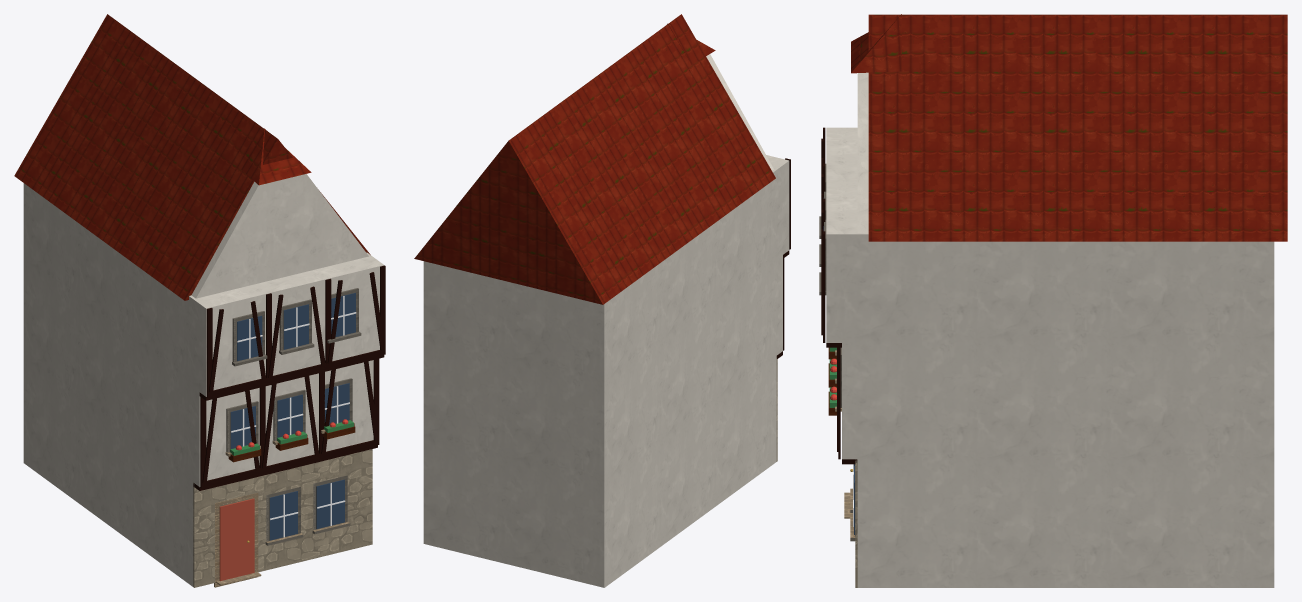
File: fachwerk_w6_1.gltf
The picture shows the model from 3 angles, left to right: view 1: azimuth 30°, elevation 25°; view 2: azimuth 150°, elevation 25°; view 3: azimuth 270°, elevation 25°; orthographic projection. The views are drawn at different scales.
Parts seen in each view (by area): view 1: fachwerk_w6_1; view 2: fachwerk_w6_1; view 3: fachwerk_w6_1.
Part boxes in pixels (box(x1,y1,x2,y2)): fachwerk_w6_1: box(14, 14, 385, 587); fachwerk_w6_1: box(414, 14, 790, 587); fachwerk_w6_1: box(819, 14, 1287, 587).
Size of what is drawn, in the model's own units: 5.96 by 13.1 by 10.56.
Materials: 8 (5 with a texture image).
